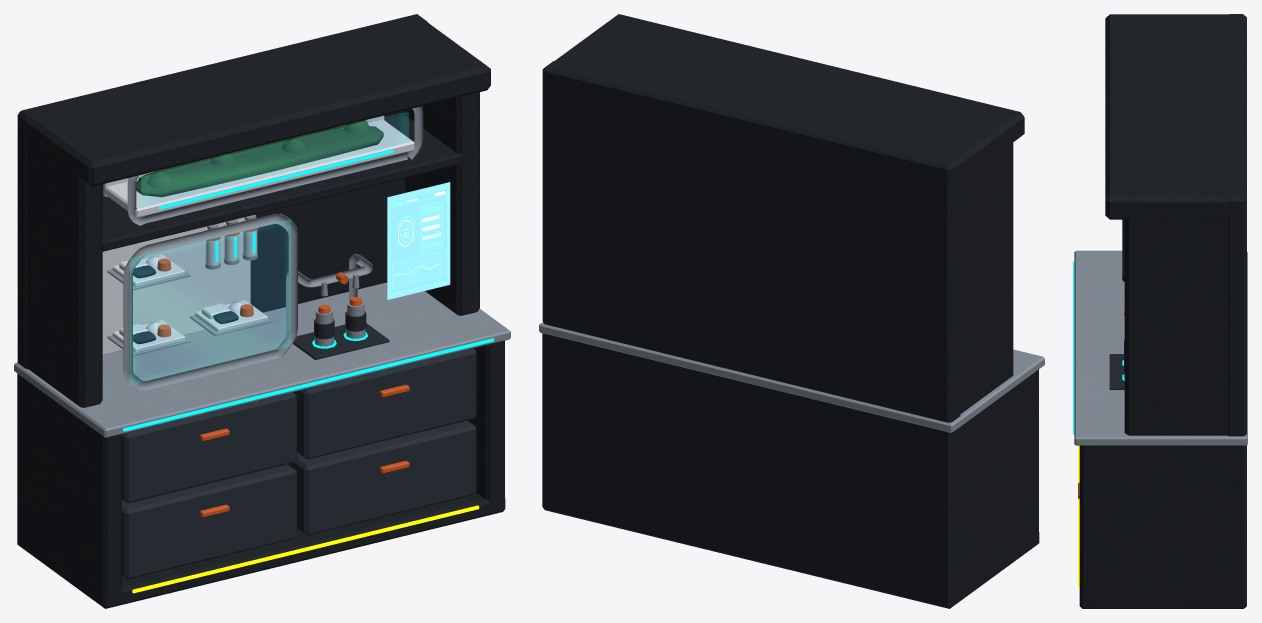
The model's file is galley_synth_r1_05.glb.
3 renders of one model, left to right at view 1: azimuth 30°, elevation 25°; view 2: azimuth 150°, elevation 25°; view 3: azimuth 270°, elevation 25°, orthographic. The views are drawn at different scales.
Visible parts, largest first — view 1: Galley05_QuadChamberGunmetalBulkhead, Galley05_CarbonSlateDrawers, Galley05_MachinedQuadFrameAndTap, Galley05_TranslucentQuadChamberGlass, Galley05_WhiteQuadTraysAndCanisters, Galley05_AeroponicHerbs, Galley05_RightOLEDNutriConsole, Galley05_CyanCoastersLED, Galley05_CharcoalPads, Galley05_SignalOrangeValves, Galley05_AmberQuadInductionLED, Galley05_NavyPouches; view 2: Galley05_QuadChamberGunmetalBulkhead, Galley05_MachinedQuadFrameAndTap; view 3: Galley05_QuadChamberGunmetalBulkhead, Galley05_MachinedQuadFrameAndTap, Galley05_CharcoalPads, Galley05_CyanCoastersLED, Galley05_AmberQuadInductionLED.
Boxes of the visible parts, x1,y1,x2,y2 form: Galley05_QuadChamberGunmetalBulkhead: [17, 14, 505, 608]; Galley05_CarbonSlateDrawers: [122, 348, 476, 579]; Galley05_MachinedQuadFrameAndTap: [14, 106, 510, 437]; Galley05_TranslucentQuadChamberGlass: [130, 112, 408, 384]; Galley05_WhiteQuadTraysAndCanisters: [102, 115, 414, 354]; Galley05_AeroponicHerbs: [136, 120, 383, 197]; Galley05_RightOLEDNutriConsole: [387, 182, 450, 299]; Galley05_CyanCoastersLED: [123, 149, 493, 431]; Galley05_CharcoalPads: [293, 311, 389, 359]; Galley05_SignalOrangeValves: [157, 221, 409, 517]; Galley05_AmberQuadInductionLED: [132, 505, 479, 593]; Galley05_NavyPouches: [133, 265, 238, 344]; Galley05_QuadChamberGunmetalBulkhead: [542, 14, 1039, 608]; Galley05_MachinedQuadFrameAndTap: [539, 322, 1044, 433]; Galley05_QuadChamberGunmetalBulkhead: [1079, 14, 1246, 608]; Galley05_MachinedQuadFrameAndTap: [1074, 250, 1247, 445]; Galley05_CharcoalPads: [1109, 340, 1124, 389]; Galley05_CyanCoastersLED: [1073, 261, 1124, 434]; Galley05_AmberQuadInductionLED: [1078, 445, 1079, 586].
Size of the model in its own units: 2.07 by 2.12 by 0.8156.
Materials: 13 (13 with a texture image).
